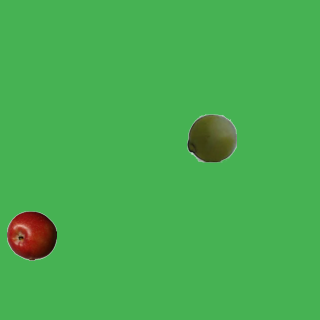Apple Braeburn: (6, 210, 56, 260)
Grape White 4: (186, 112, 236, 162)
